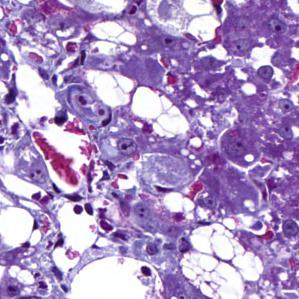ballooning: (81, 67, 192, 141), (178, 220, 266, 298), (85, 19, 138, 58)
